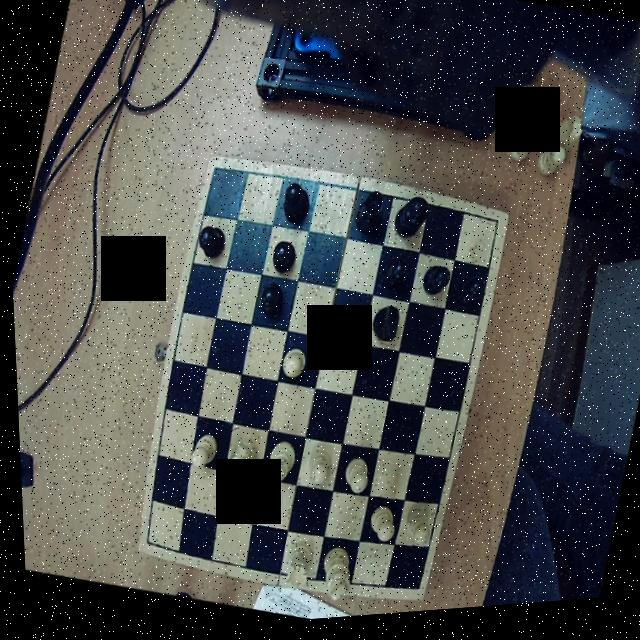chess-table-corners: (202, 160, 230, 190), (401, 576, 423, 608), (478, 215, 504, 242), (134, 533, 157, 559)
